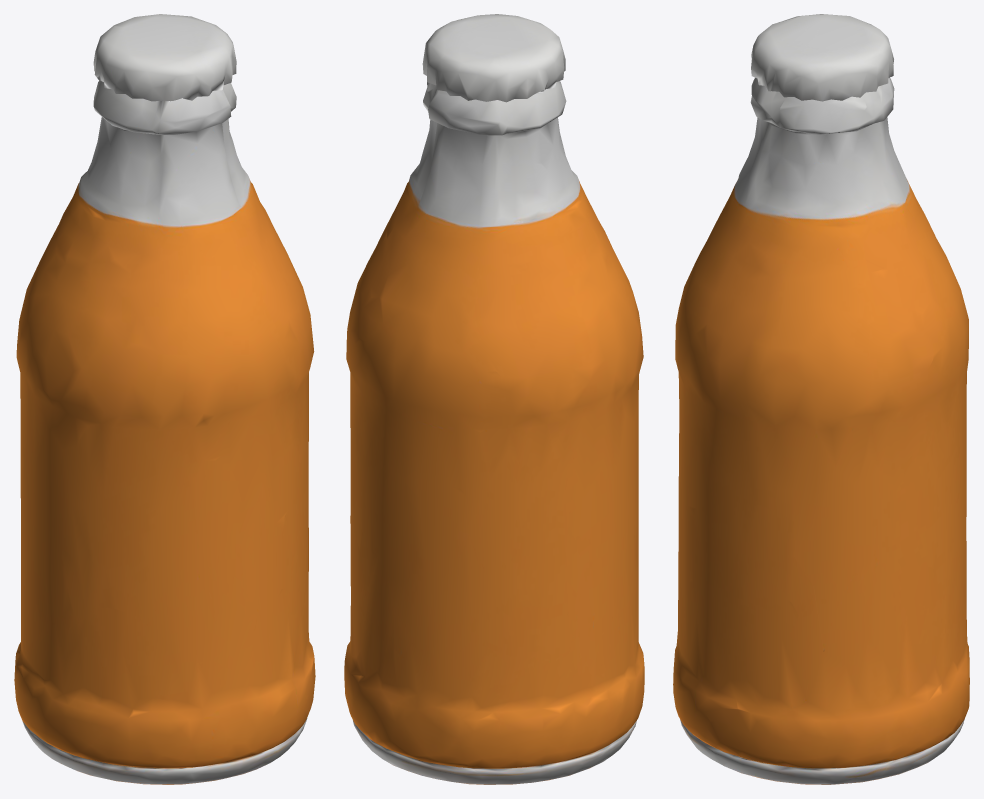
The model's file is refresco.glb.
3 views of the same model, side by side, from view 1: azimuth 30°, elevation 25°; view 2: azimuth 150°, elevation 25°; view 3: azimuth 270°, elevation 25° (orthographic).
Visible parts, largest first — view 1: tripo_node_5e7a87d8-a74e-4f95-898e-db6cc820f6a9; view 2: tripo_node_5e7a87d8-a74e-4f95-898e-db6cc820f6a9; view 3: tripo_node_5e7a87d8-a74e-4f95-898e-db6cc820f6a9.
Part boxes in pixels (x1,y1,x2,y2): tripo_node_5e7a87d8-a74e-4f95-898e-db6cc820f6a9: [14, 14, 315, 784]; tripo_node_5e7a87d8-a74e-4f95-898e-db6cc820f6a9: [344, 14, 644, 784]; tripo_node_5e7a87d8-a74e-4f95-898e-db6cc820f6a9: [673, 14, 969, 784].
Size of the model in its own units: 0.0868 by 0.22 by 0.0853.
Materials: 1 (1 with a texture image).
